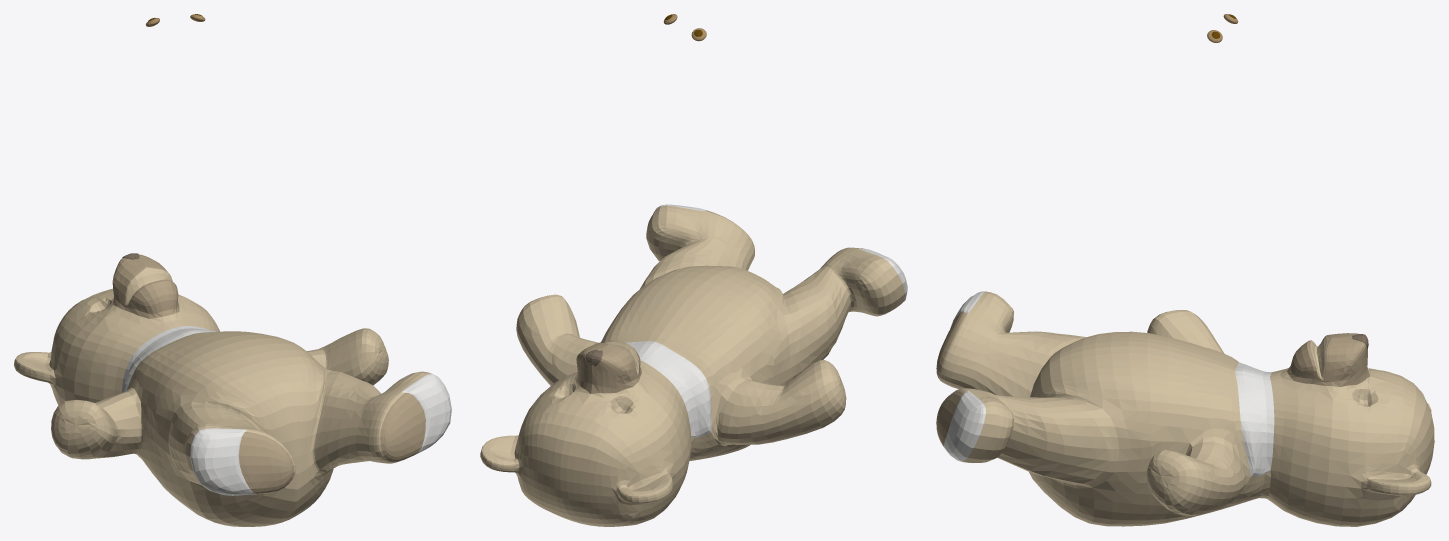
File: teddybear.fbx
3 views of the same model, side by side, from view 1: azimuth 30°, elevation 25°; view 2: azimuth 150°, elevation 25°; view 3: azimuth 270°, elevation 25° (orthographic). The views are drawn at different scales.
Visible parts, largest first — view 1: bear_body; view 2: bear_body; view 3: bear_body.
Boxes of the visible parts, x1=… form: bear_body: x1=14, y1=254, x2=451, y2=526; bear_body: x1=480, y1=204, x2=907, y2=526; bear_body: x1=936, y1=291, x2=1434, y2=526.
Size of the model in its own units: 36.96 by 49.88 by 47.04.
